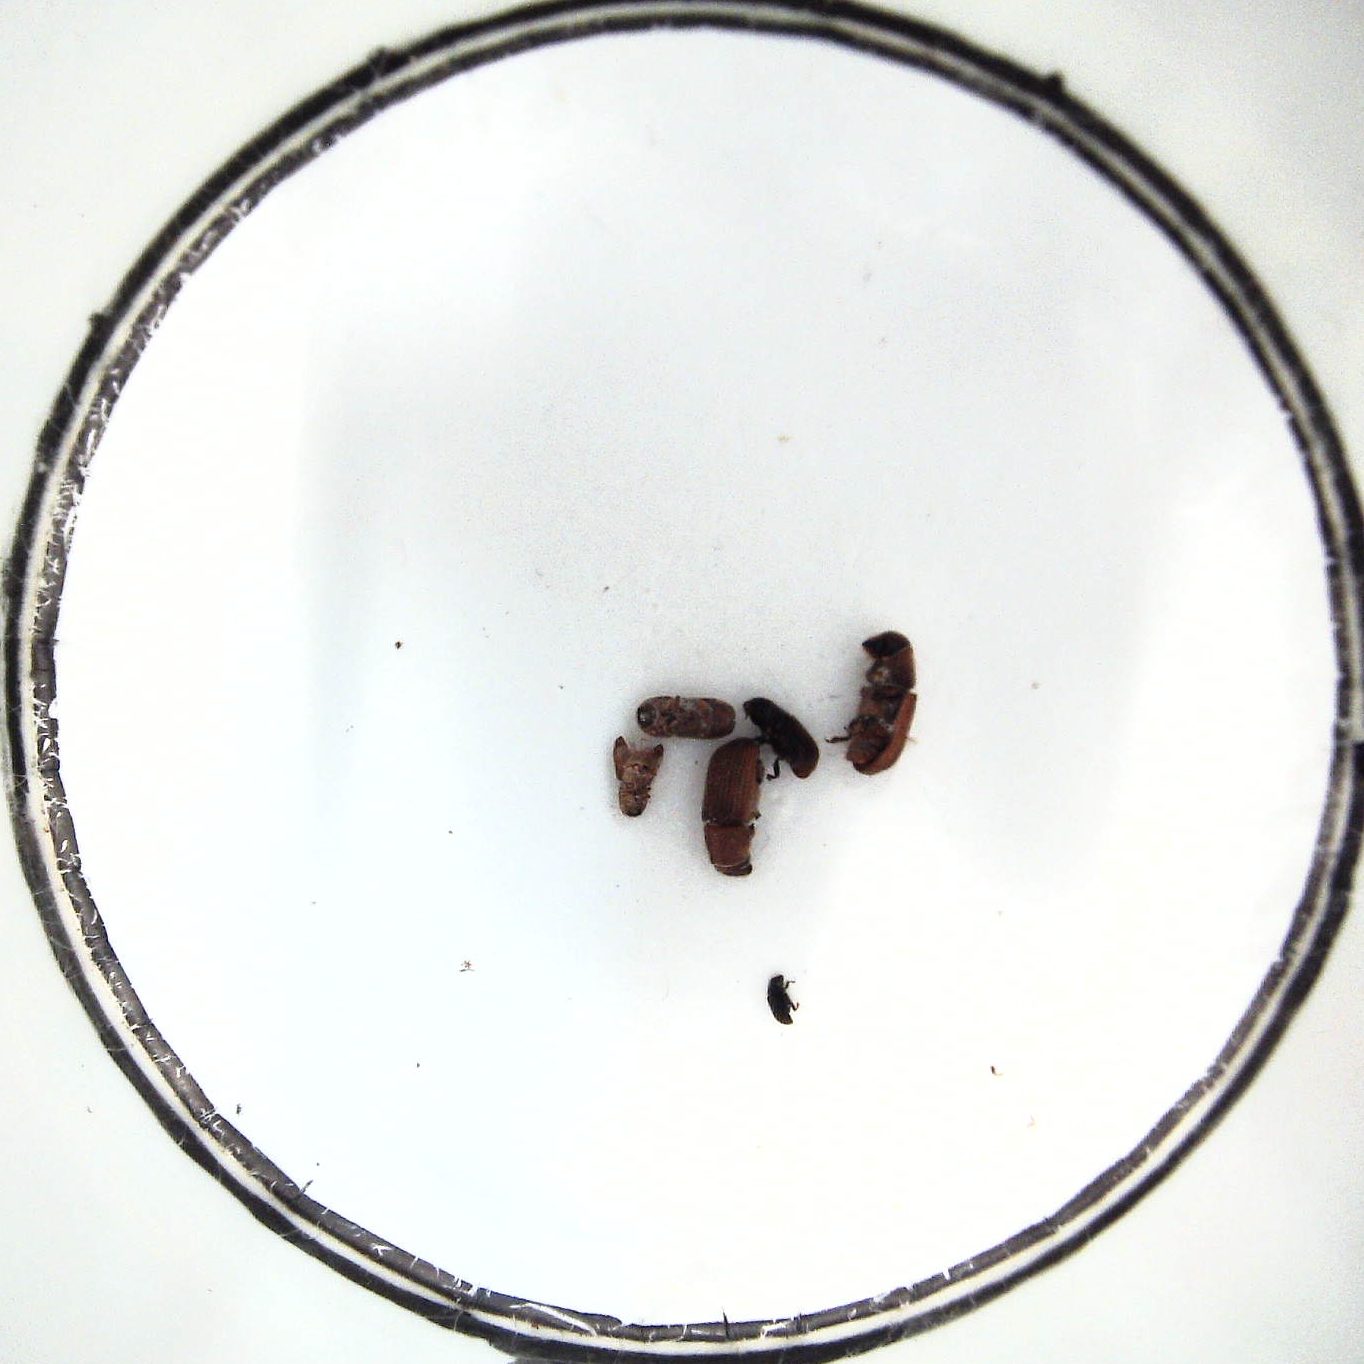Leconte: (824, 623, 921, 776), (699, 734, 764, 876)
Linnaeus: (636, 691, 737, 743)
acuminatus: (612, 737, 667, 819)
armandi: (744, 697, 819, 783)
coleoptera: (767, 972, 801, 1027)
